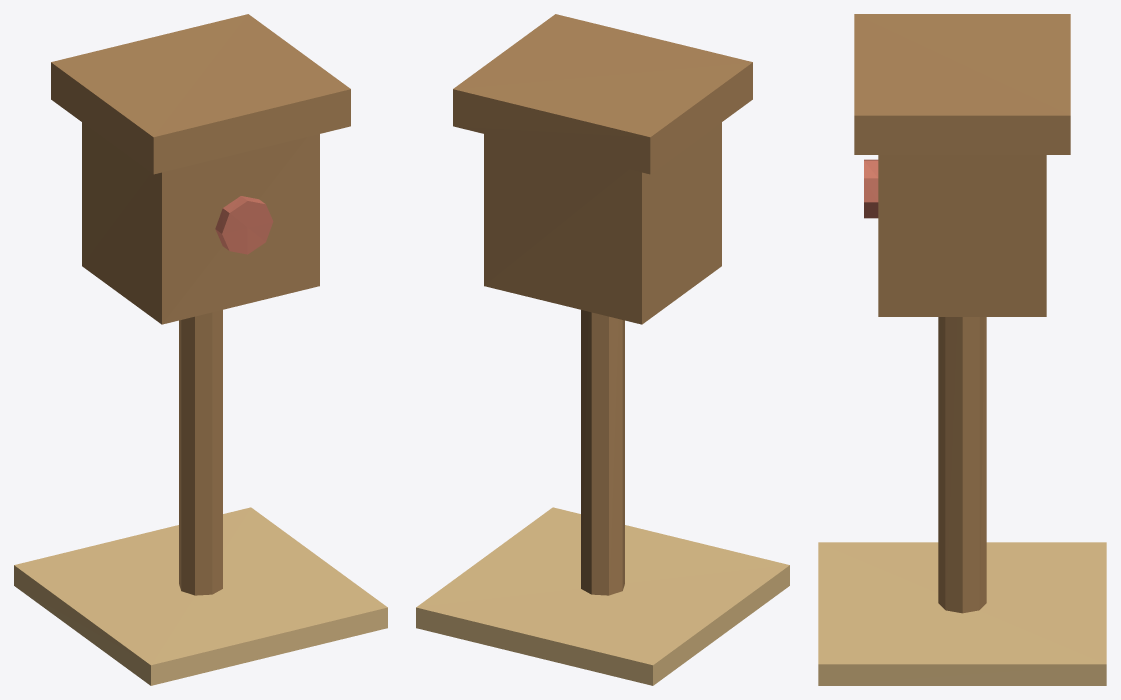
File: Birdhouse.glb
The picture shows the model from 3 angles, left to right: view 1: azimuth 30°, elevation 25°; view 2: azimuth 150°, elevation 25°; view 3: azimuth 270°, elevation 25°; orthographic projection. The views are drawn at different scales.
Visible parts, largest first — view 1: birdhouse-static-birdhouse-timber, birdhouse-static-birdhouse-earth, birdhouse-static-birdhouse-teal, birdhouse-static-birdhouse-flower; view 2: birdhouse-static-birdhouse-timber, birdhouse-static-birdhouse-earth, birdhouse-static-birdhouse-teal; view 3: birdhouse-static-birdhouse-timber, birdhouse-static-birdhouse-earth, birdhouse-static-birdhouse-teal, birdhouse-static-birdhouse-flower.
Part boxes in pixels (<box>): birdhouse-static-birdhouse-timber: <box>82,122,319,595</box>; birdhouse-static-birdhouse-earth: <box>14,507,387,685</box>; birdhouse-static-birdhouse-teal: <box>51,14,350,174</box>; birdhouse-static-birdhouse-flower: <box>215,196,273,254</box>; birdhouse-static-birdhouse-timber: <box>484,122,721,595</box>; birdhouse-static-birdhouse-earth: <box>416,507,789,685</box>; birdhouse-static-birdhouse-teal: <box>453,14,752,174</box>; birdhouse-static-birdhouse-timber: <box>878,155,1046,613</box>; birdhouse-static-birdhouse-earth: <box>818,542,1106,685</box>; birdhouse-static-birdhouse-teal: <box>854,14,1070,154</box>; birdhouse-static-birdhouse-flower: <box>864,159,878,218</box>.
Bounding box in the file's own units: 1.2 × 2.57 × 1.2.
